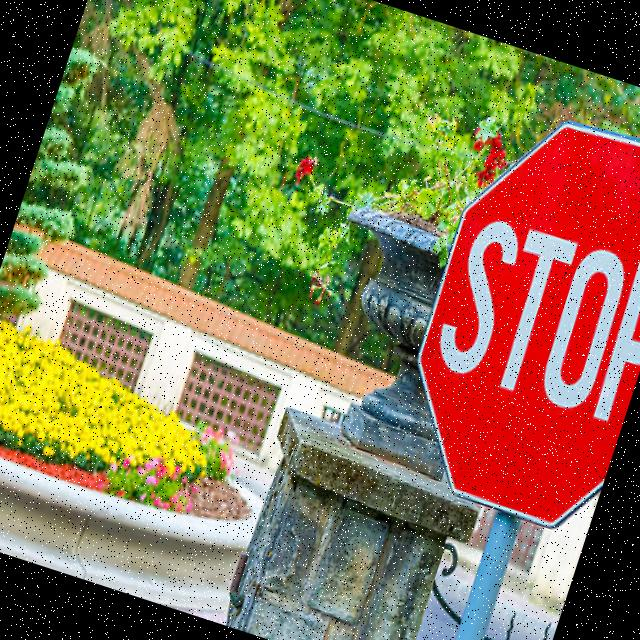stop: (371, 84, 640, 547)
